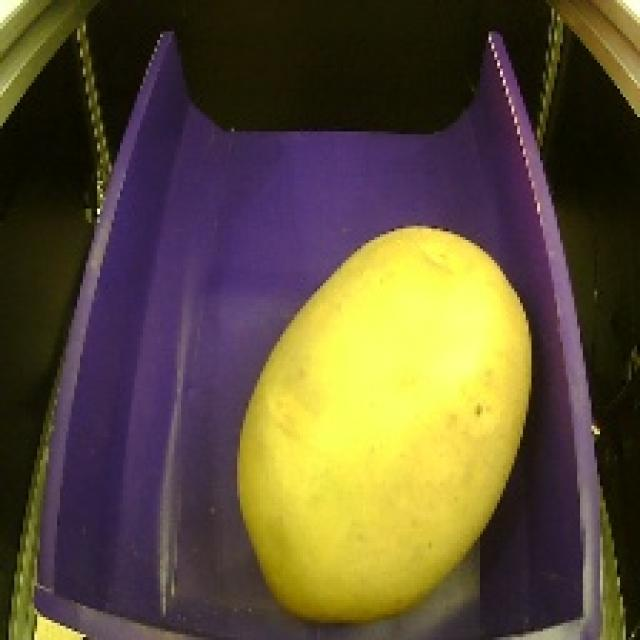full_potato: (218, 203, 540, 627)
